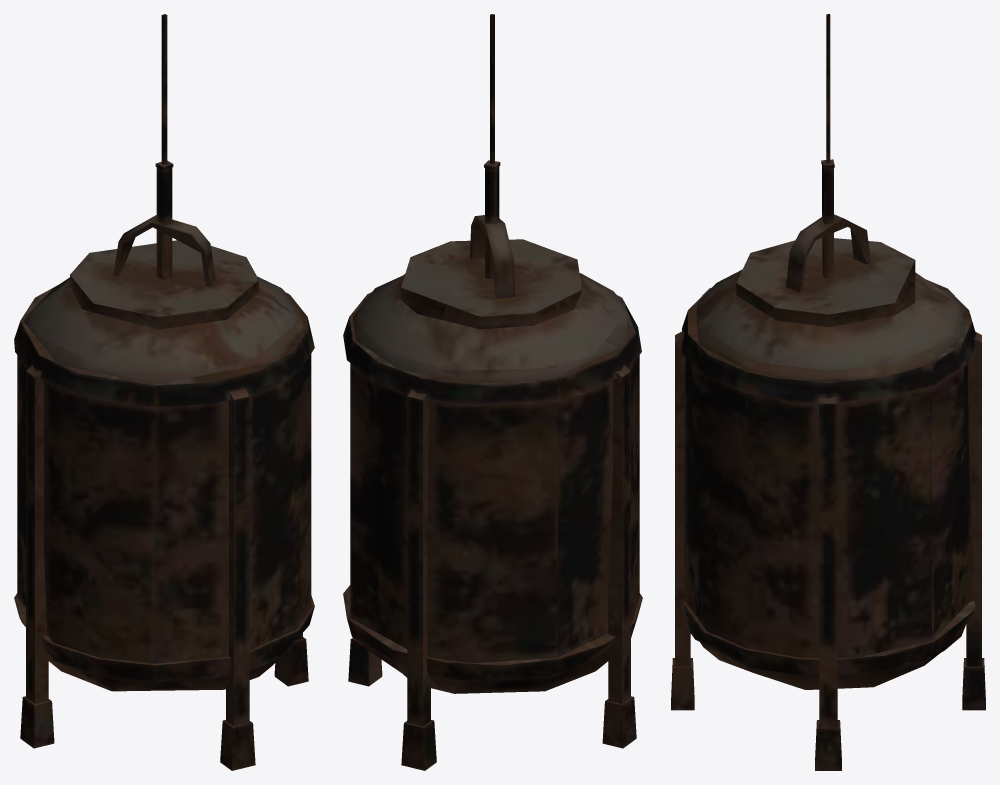
Rendered from ew-boiler.lod1.glb.
3 views of the same model, side by side, from view 1: azimuth 30°, elevation 25°; view 2: azimuth 150°, elevation 25°; view 3: azimuth 270°, elevation 25° (orthographic).
Visible parts, largest first — view 1: Boiler__0; view 2: Boiler__0; view 3: Boiler__0.
Part boxes in pixels (x1,y1,x2,y2): Boiler__0: [14, 14, 314, 770]; Boiler__0: [343, 14, 642, 770]; Boiler__0: [671, 14, 985, 770].
Bounding box in the file's own units: 1.57 × 3.8 × 1.57.
Materials: 1 (1 with a texture image).
